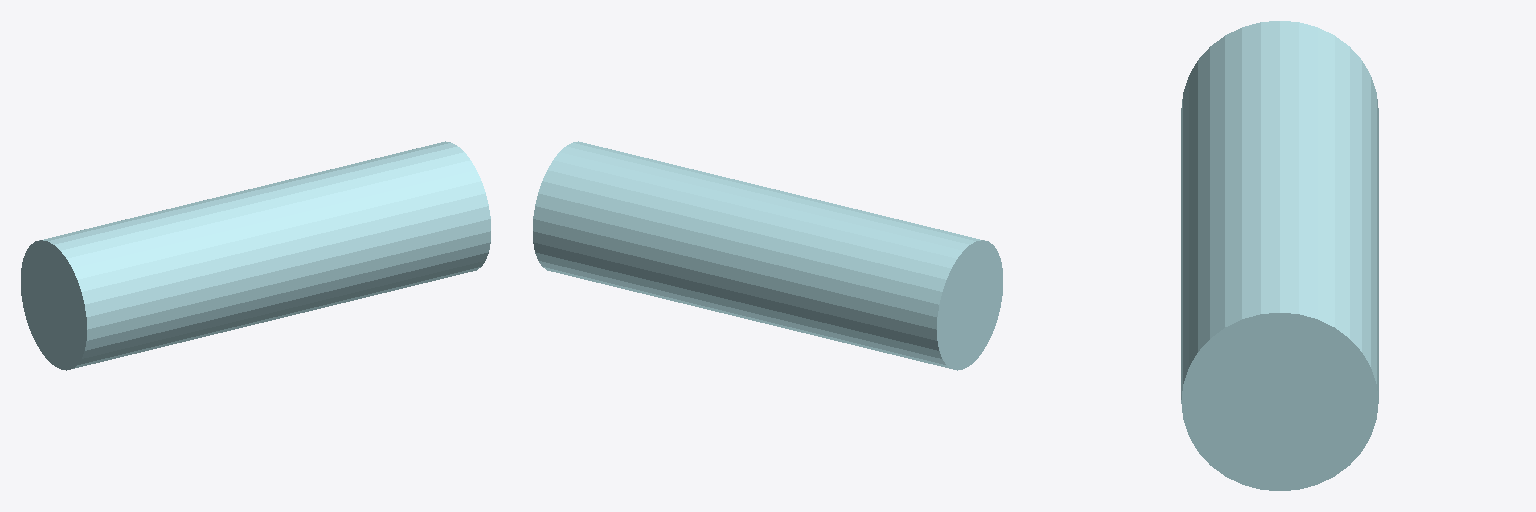
URDF robot description (NIST_Robot):
<?xml version="1.0" ?>
<!-- =================================================================================== -->
<!-- |    This document was autogenerated by xacro from mtconnect_m16ib20_demo_tool.xacro | -->
<!-- |    EDITING THIS FILE BY HAND IS NOT RECOMMENDED                                 | -->
<!-- =================================================================================== -->
<robot name="NIST_Robot" xmlns:xacro="http://ros.org/wiki/xacro">
  <!-- parameters -->
  <!-- color definitions -->
  <material name="blue">
    <color rgba="0 0 1 1"/>
  </material>
  <material name="yellow">
    <color rgba="1 1 0 1"/>
  </material>
  <material name="orange">
    <color rgba="1 0.66 0.48 1"/>
  </material>
  <material name="red">
    <color rgba="1 0 0 1"/>
  </material>
  <material name="light_blue">
    <color rgba="0.78 0.94 0.965 1"/>
  </material>
  <!-- robot definitions, also defined in robot urdf -->
  <link name="tool0"/>
  <!-- link definitions -->
  <!--link name="palm"/-->
  <link name="tcp_frame"/>
  <link name="end_effector_link">
    <visual>
      <origin rpy="0 0 0" xyz="0.0 0.0 0.175"/>
      <geometry>
        <cylinder length="0.35" radius="0.05"/>
      </geometry>
      <material name="light_blue"/>
    </visual>
  </link>
  <!-- joint definitions -->
  <joint name="tool_to_end_effector" type="fixed">
    <origin rpy="0 1.5708 0" xyz="0 0 0"/>
    <parent link="tool0"/>
    <child link="end_effector_link"/>
  </joint>
  <joint name="tool_to_tcp" type="fixed">
    <origin rpy="0 0 0" xyz="0.35 0 0"/>
    <parent link="tool0"/>
    <child link="tcp_frame"/>
  </joint>
</robot>

--- What the picture shows (computed from the rendered views, not written in the file) ---
Views: 3 orthographic renders of the robot side by side, from view 1: azimuth 30°, elevation 25°; view 2: azimuth 150°, elevation 25°; view 3: azimuth 270°, elevation 25°.
Model NIST_Robot with 3 links and 2 joints (2 fixed), rooted at tool0, posed all joints at 0.
Links seen in each view (by area): view 1: end_effector_link; view 2: end_effector_link; view 3: end_effector_link.
Link boxes in pixels (x1=…): end_effector_link: x1=21, y1=141, x2=490, y2=370; end_effector_link: x1=533, y1=141, x2=1002, y2=370; end_effector_link: x1=1181, y1=21, x2=1378, y2=490.
Size in the robot's own frame: 0.35 by 0.1 by 0.1 metres.
Geometry: primitives only (box / cylinder / sphere), no mesh files.